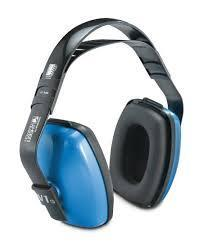Ear_protector: (32, 115, 115, 237), (110, 97, 182, 217)
